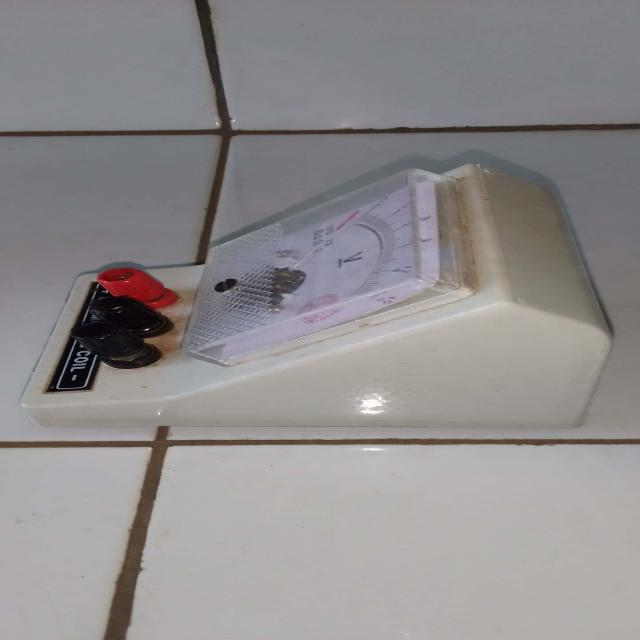Analog Voltmeter: (28, 140, 604, 445)
